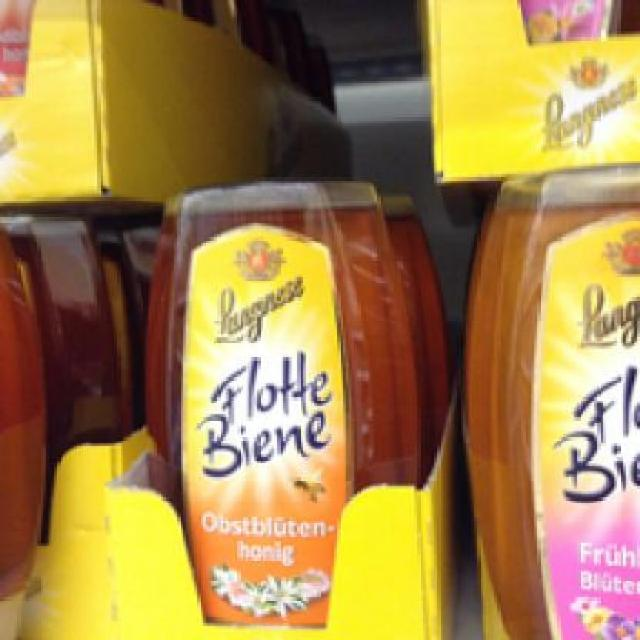Honey: (136, 183, 430, 623)
